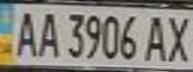0: (100, 11, 124, 61)
3: (63, 9, 84, 60)
6: (118, 11, 142, 62)
9: (81, 11, 103, 60)
A: (142, 11, 172, 63), (9, 7, 39, 58), (33, 8, 60, 57)
X: (163, 11, 193, 63)
